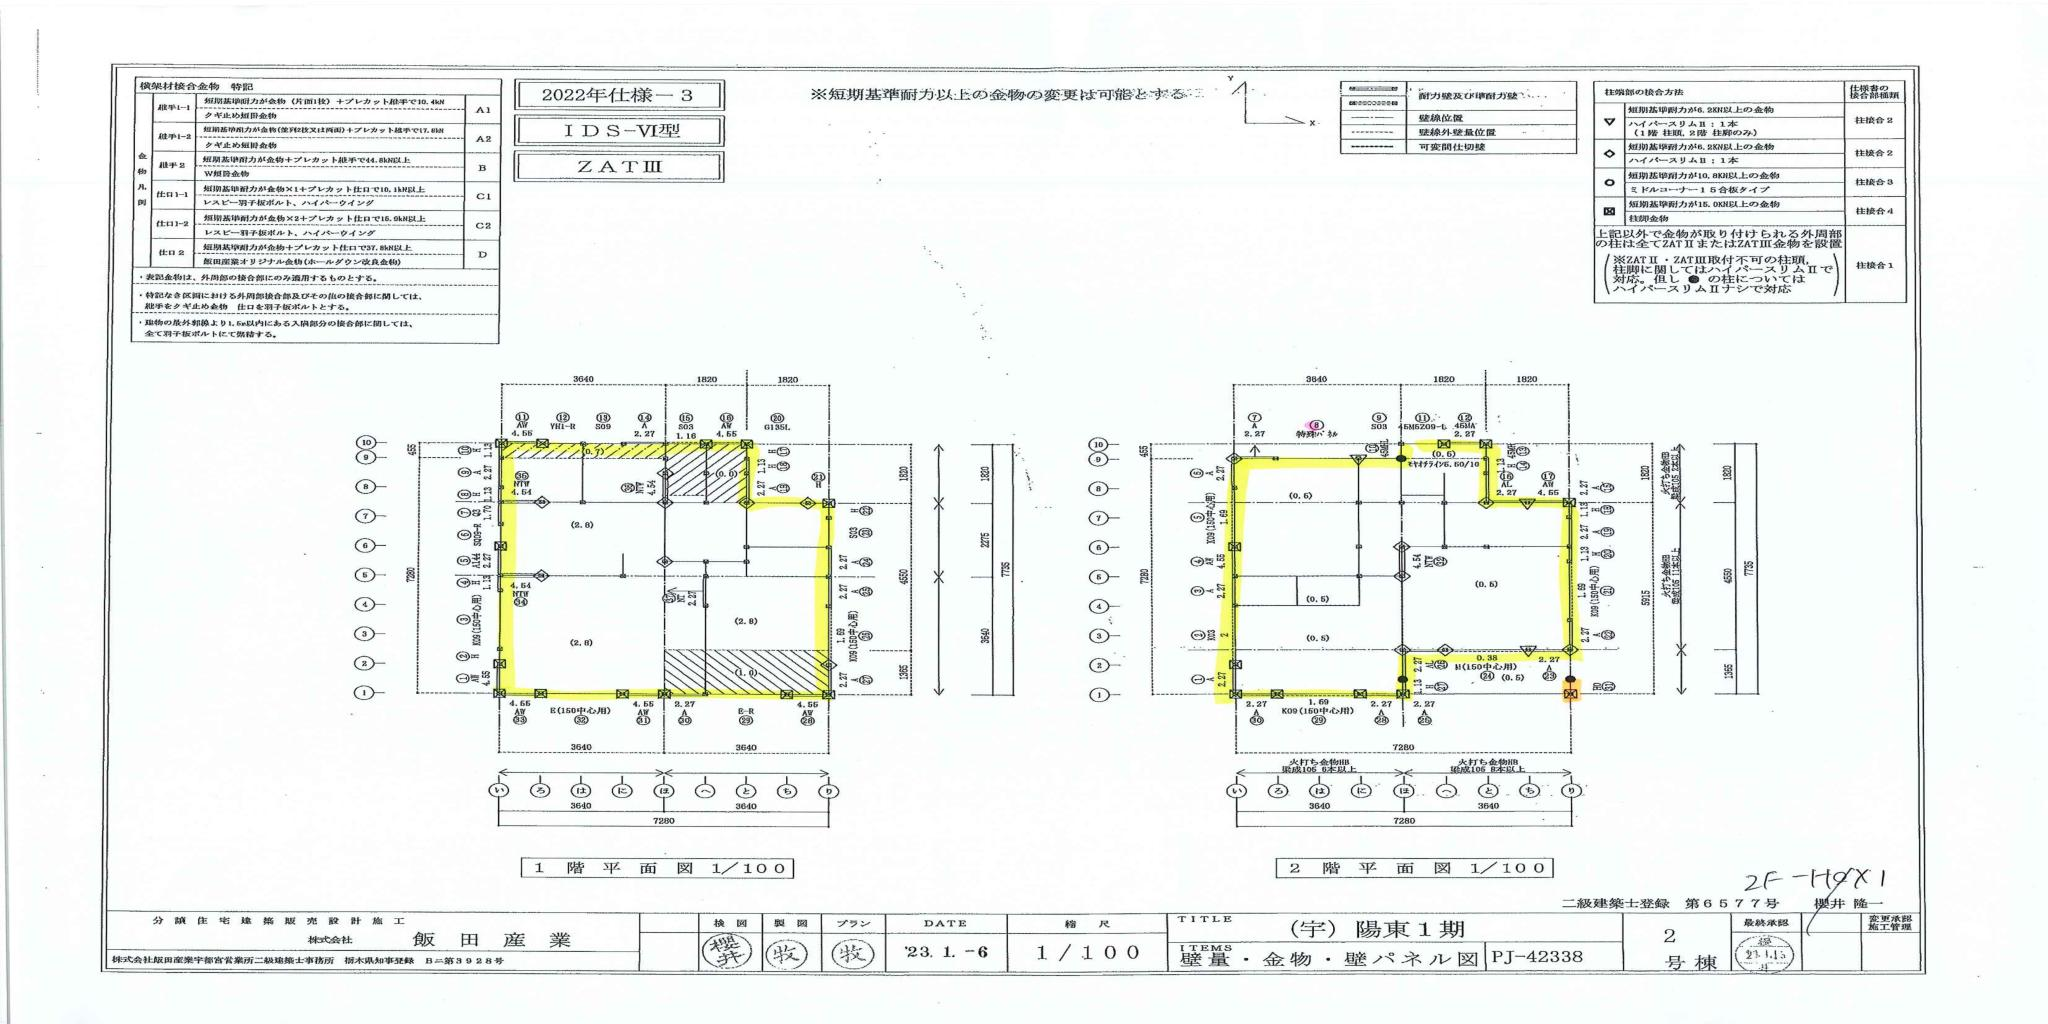CAD: (435, 405, 887, 734), (1183, 409, 1624, 730)
